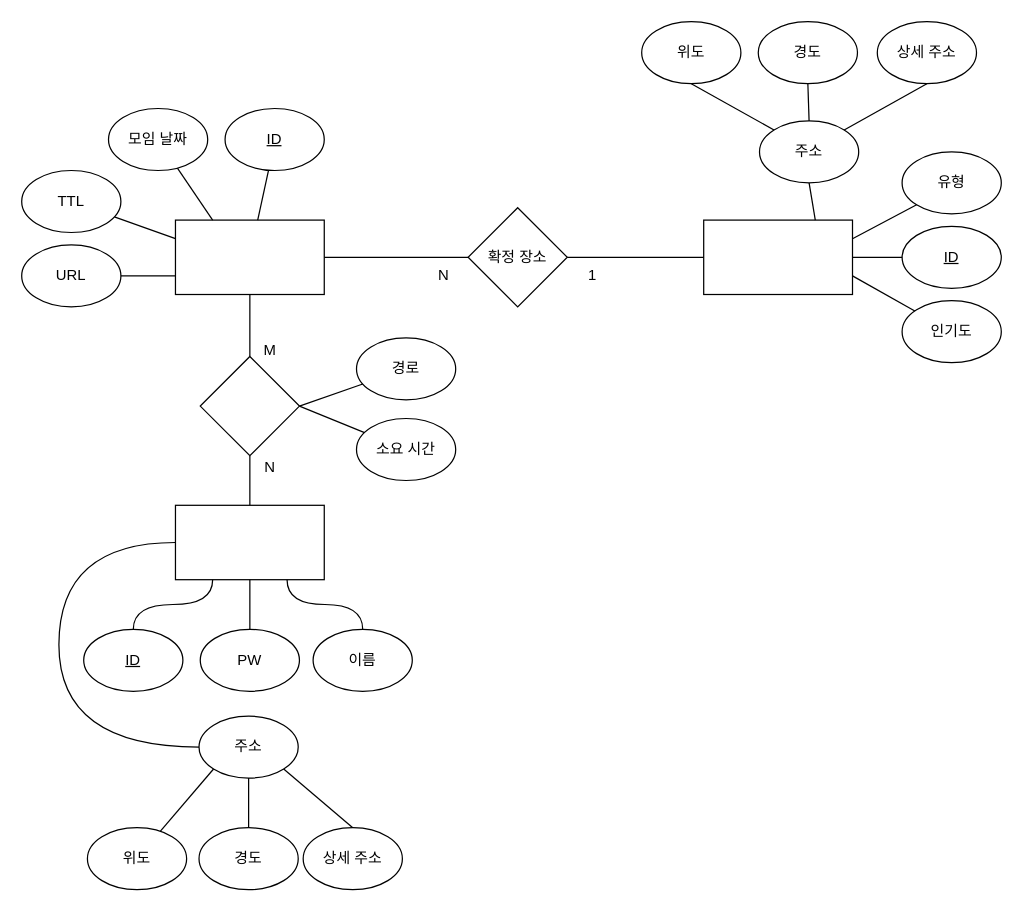
The diagram is 1023 pixels wide and 911 high, and some of its shapes have lost their labels. The shapes that lost their labels are listed below. From the top down, each one's centre as x and y in pixels, then its label:
At point 249,256: "Meeting".
At point 777,256: "추천 Location".
At point 249,405: "참석 명단".
At point 249,542: "회원 / 비회원".
